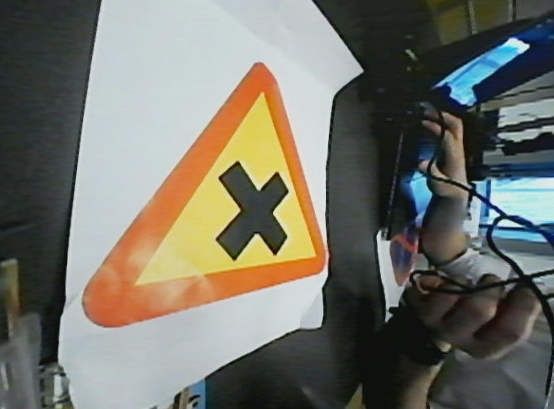junction: (88, 61, 333, 324)
